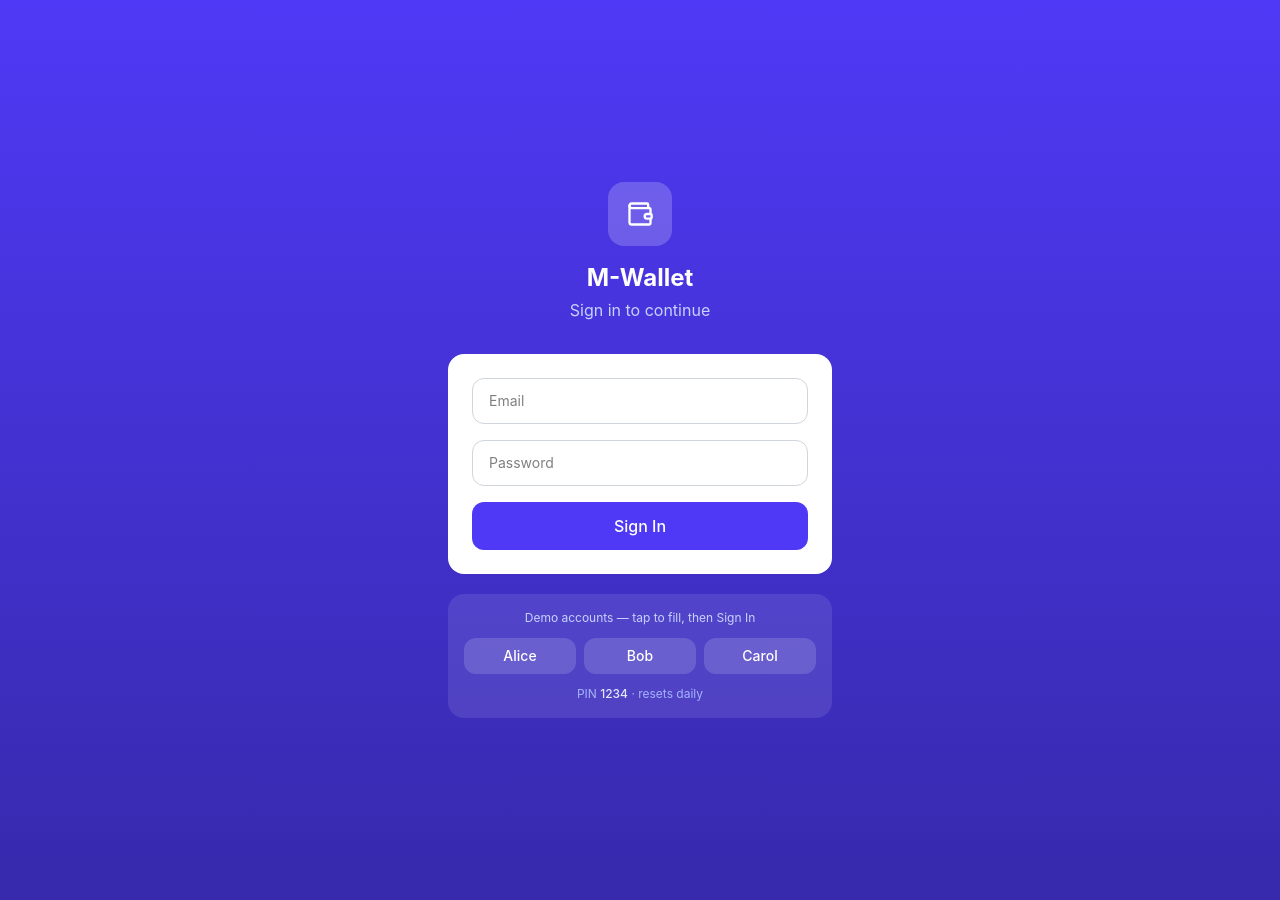
LoginPage › disables the Sign In button and shows a loading label while the request is in flight
The width and height of the screenshot is (1280, 900).
Type "alice@demo.local" into the field with placeholder "Email".
click(640, 401); type("alice@demo.local")  # box [472, 378, 808, 424]
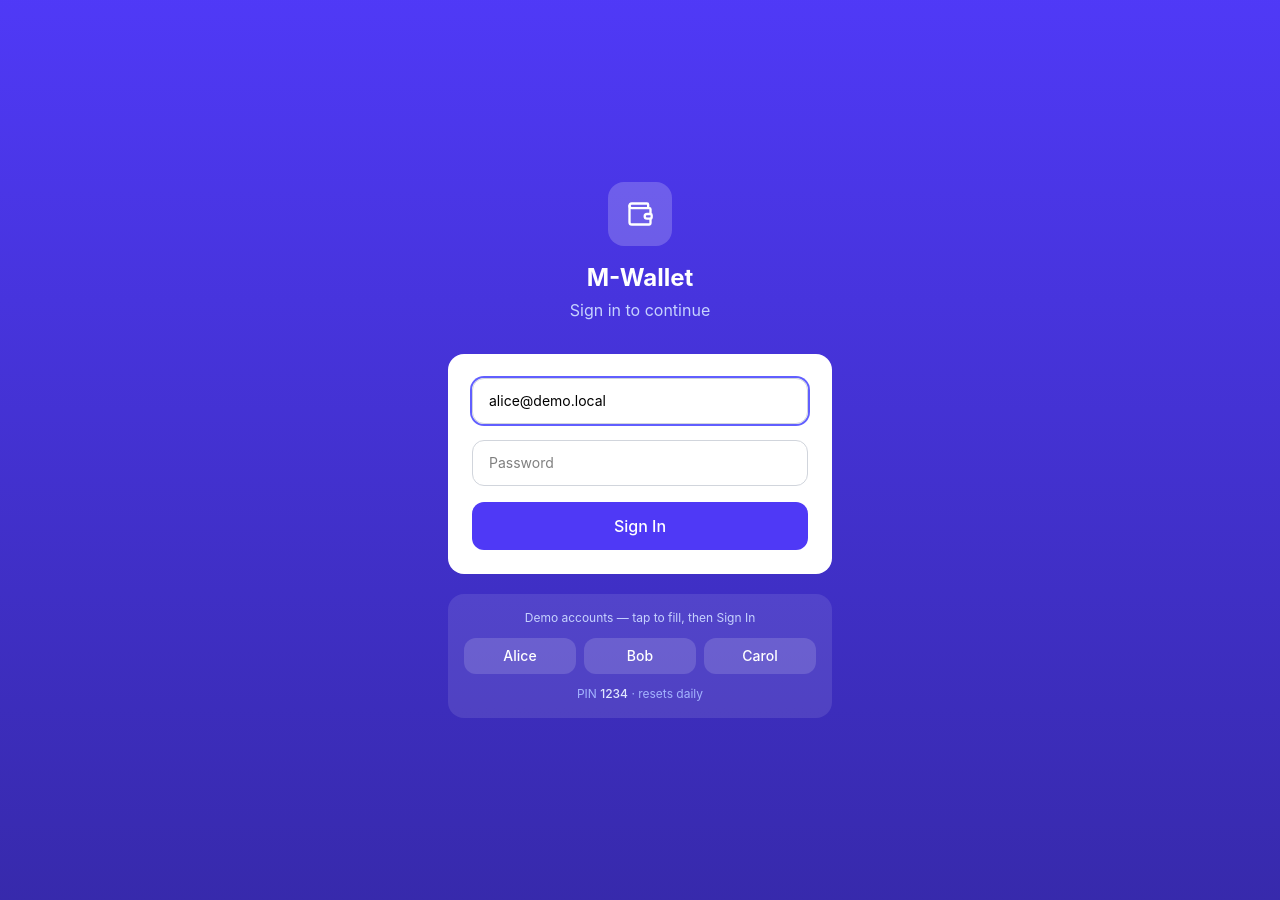
Type "password123" into the password field with placeholder "Password".
click(640, 463); type("password123")  # box [472, 440, 808, 486]
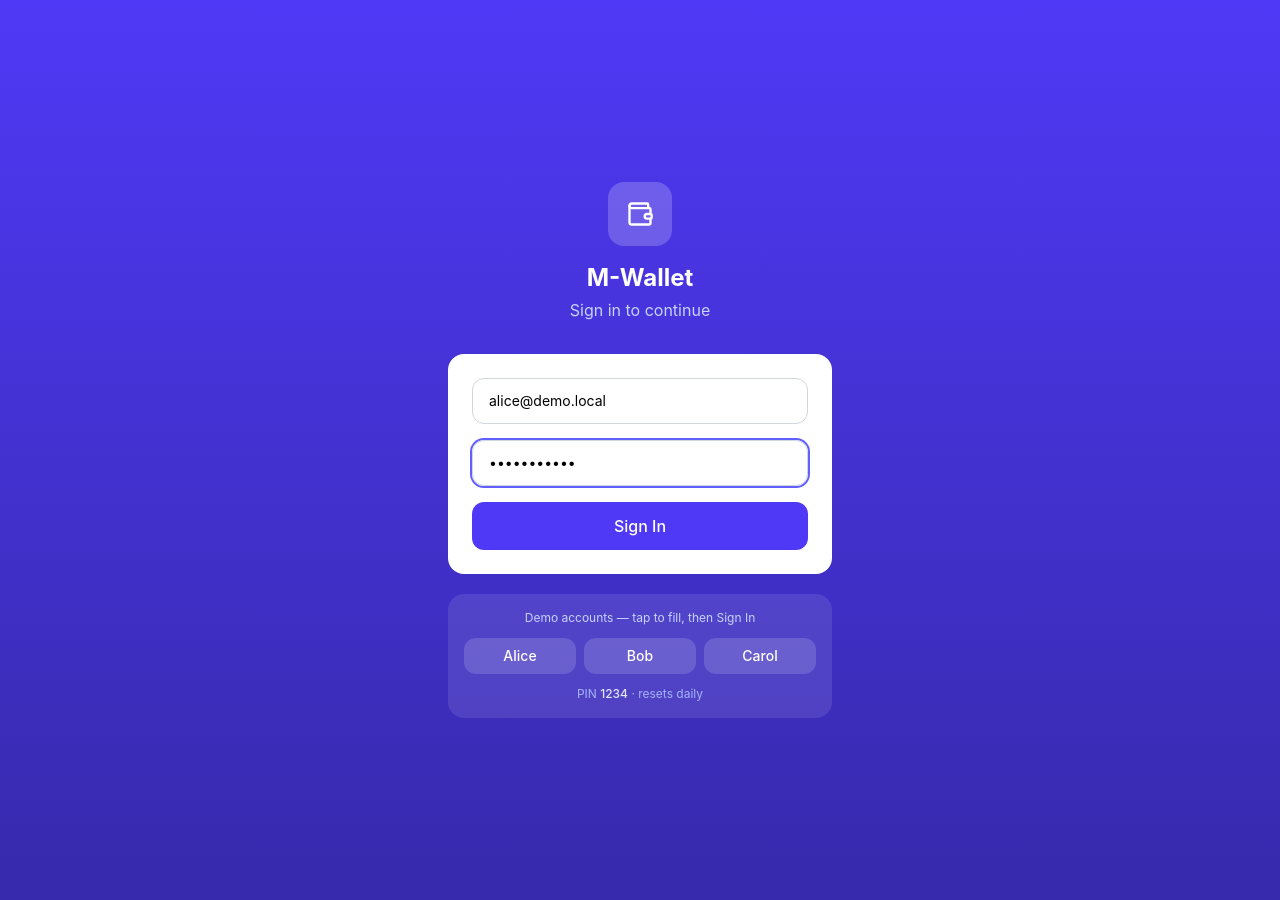
Click the button "Sign In".
click(640, 526)  # box [472, 502, 808, 550]
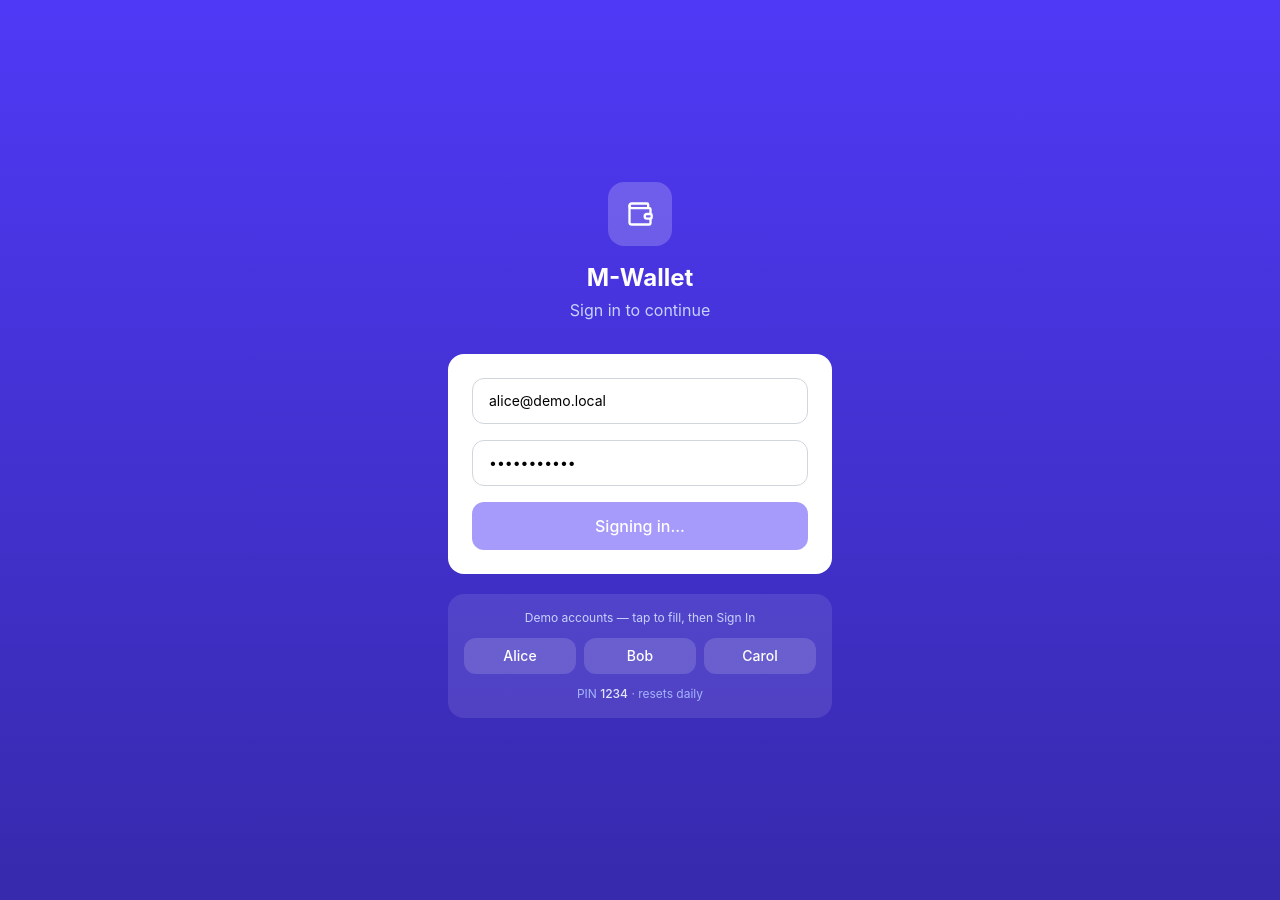
Check: the button "Signing in..." is disabled, box [472, 502, 808, 550]
